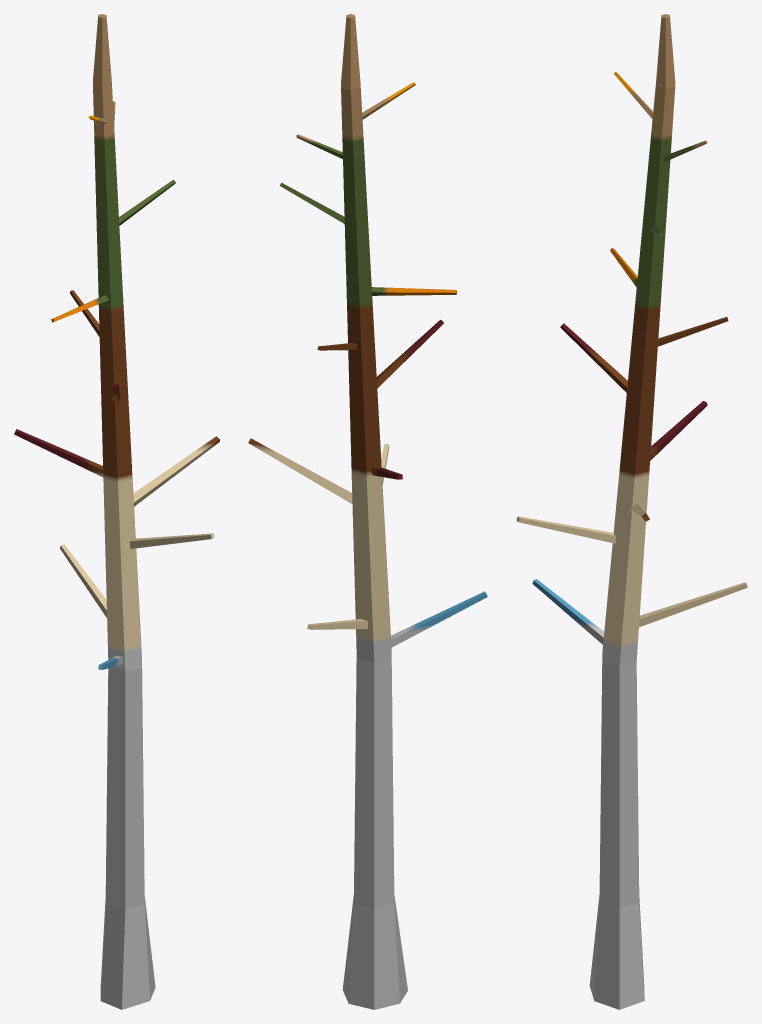
File: Tree_25.fbx
3 renders of one model, left to right at view 1: azimuth 30°, elevation 25°; view 2: azimuth 150°, elevation 25°; view 3: azimuth 270°, elevation 25°, orthographic. The views are drawn at different scales.
Visible parts, largest first — view 1: Tree_25; view 2: Tree_25; view 3: Tree_25.
Part boxes in pixels (<box>): Tree_25: <box>14,14,219,1009</box>; Tree_25: <box>248,14,487,1009</box>; Tree_25: <box>516,14,747,1009</box>.
Size of the model in its own units: 2.7 by 13.49 by 2.89.
